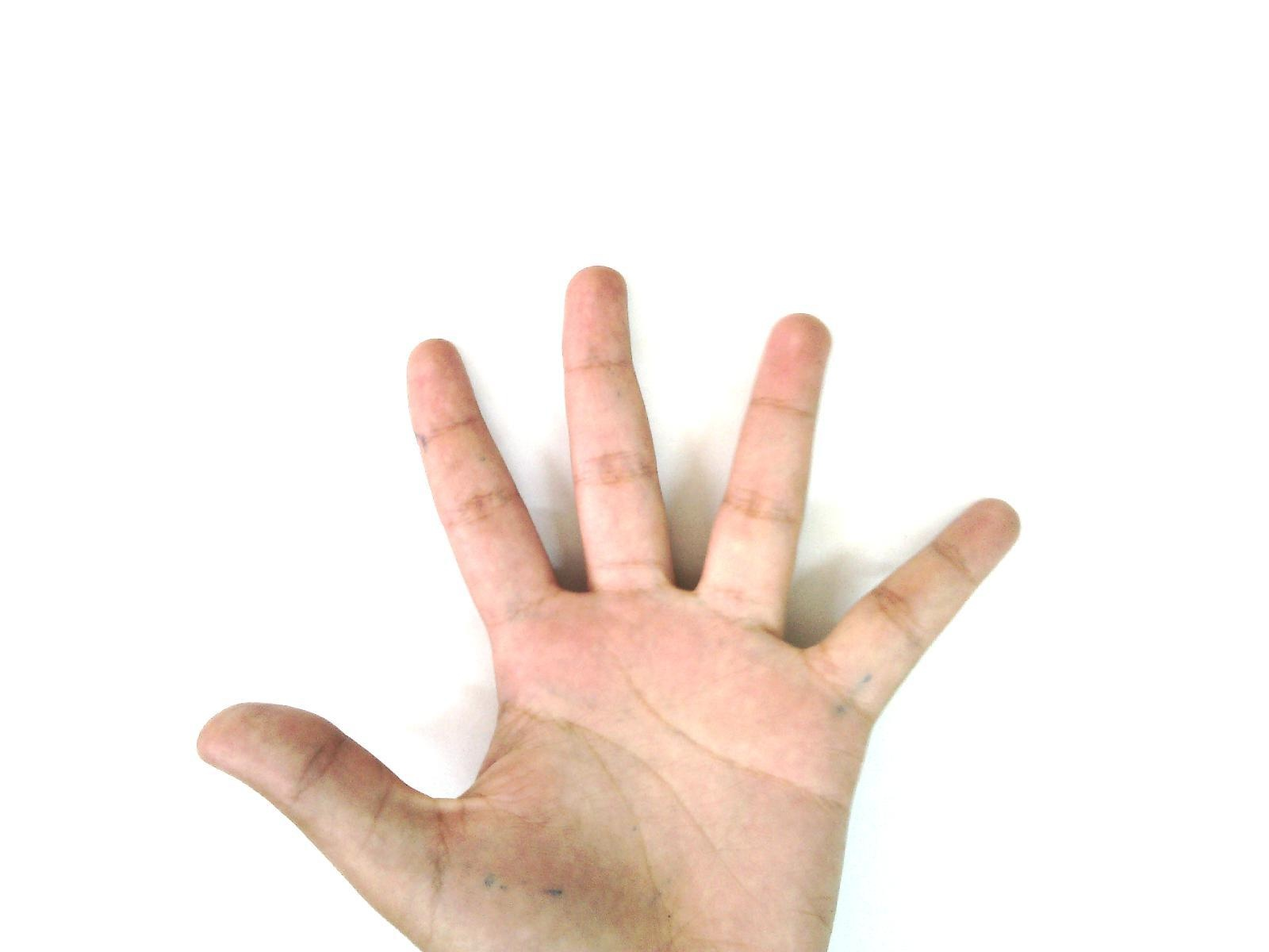open_palm: (195, 263, 1024, 952)
